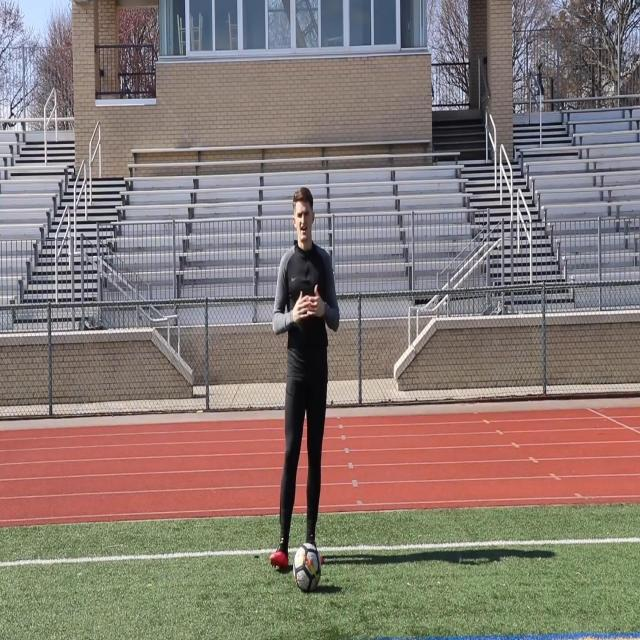Soccer Ball: (294, 541, 322, 591)
